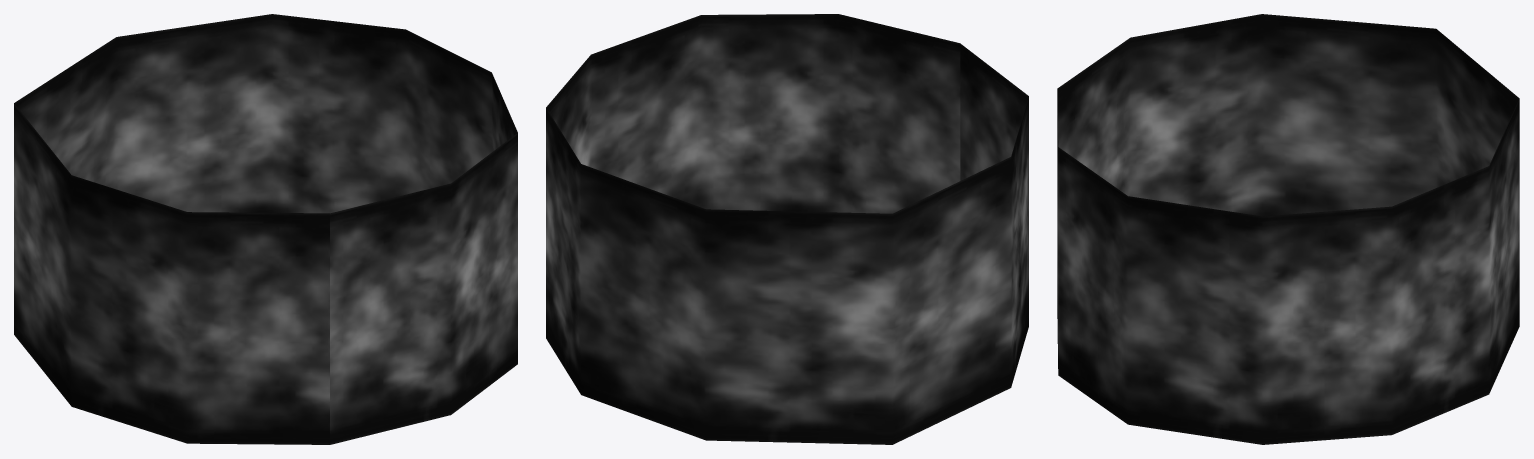
The model's file is der02.obj.
The picture shows the model from 3 angles, left to right: view 1: azimuth 30°, elevation 25°; view 2: azimuth 150°, elevation 25°; view 3: azimuth 270°, elevation 25°; orthographic projection.
Parts seen in each view (by area): view 1: der02; view 2: der02; view 3: der02.
Boxes of the visible parts, x1,y1,x2,y2 form: der02: (14,14,517,444); der02: (546,14,1028,444); der02: (1057,14,1519,444).
Size of the model in its own units: 6895 by 3629 by 6650.
